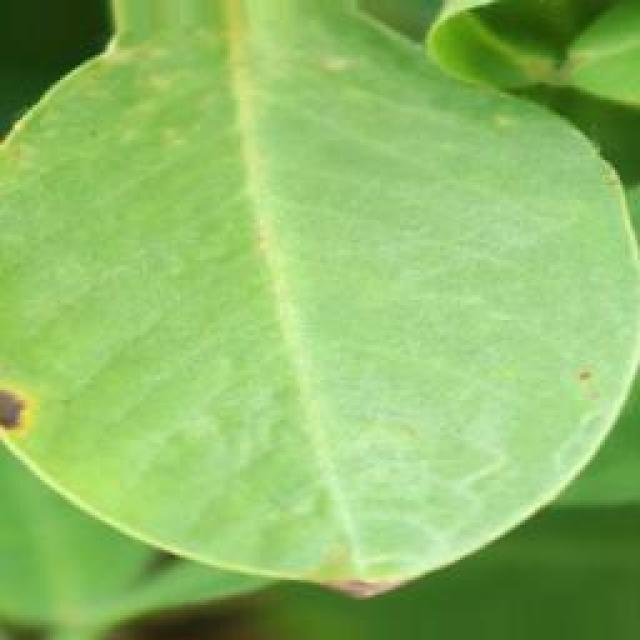Sigatoka: (337, 560, 409, 622), (0, 362, 40, 450), (558, 353, 604, 418)
